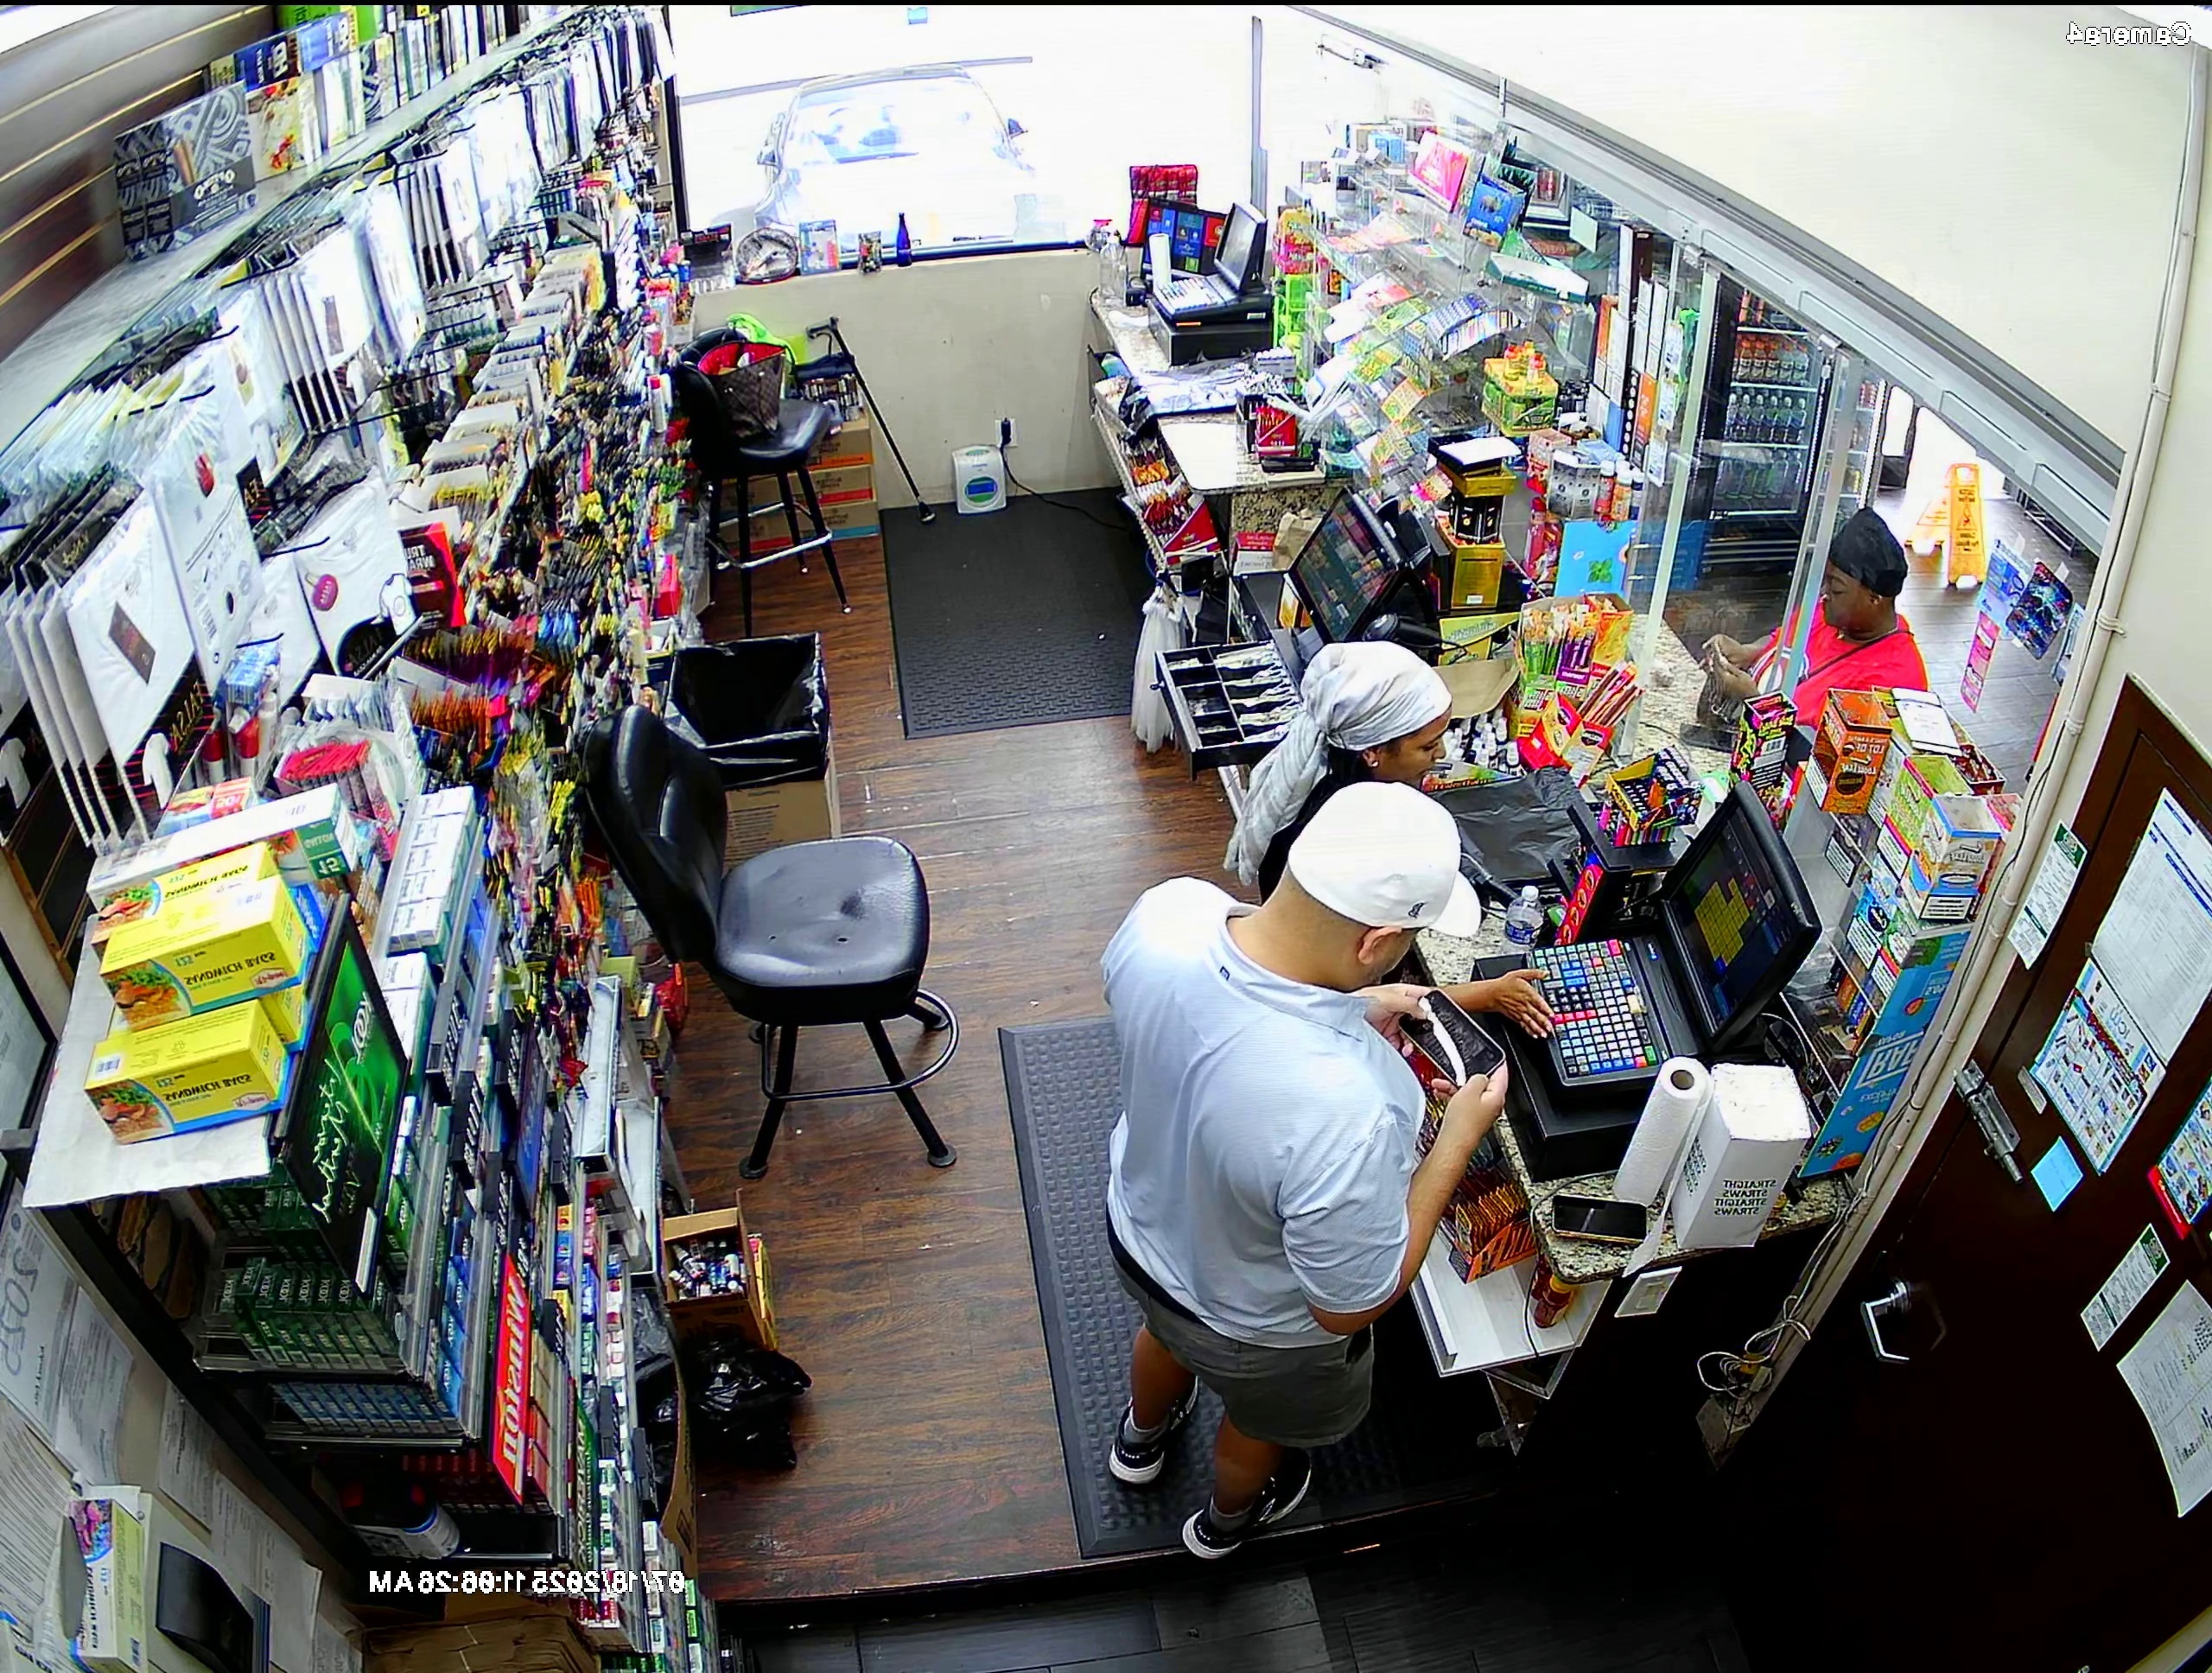phone: (1388, 982, 1516, 1095)
